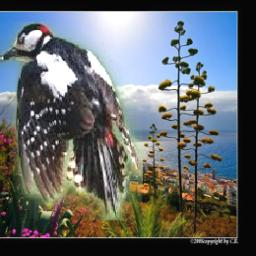Woodpecker: (0, 22, 144, 220)
